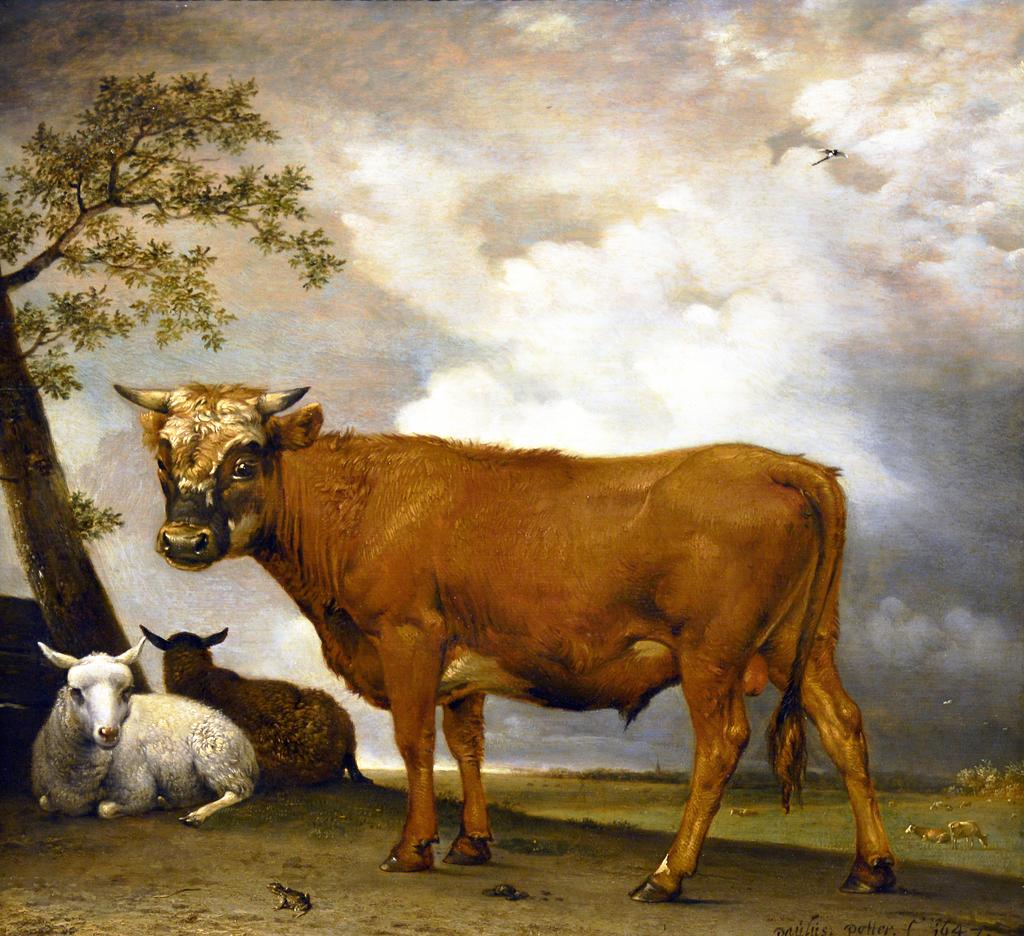Sheep: (30, 644, 262, 833), (132, 620, 368, 792)
